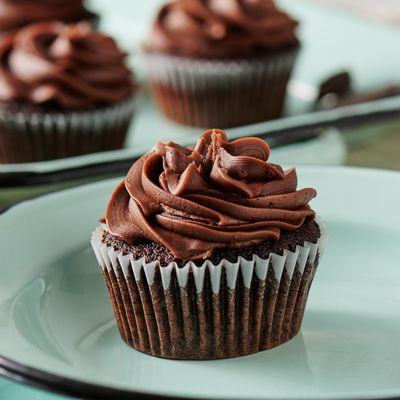sushi: (90, 131, 322, 360), (125, 0, 302, 130), (0, 14, 143, 164)
